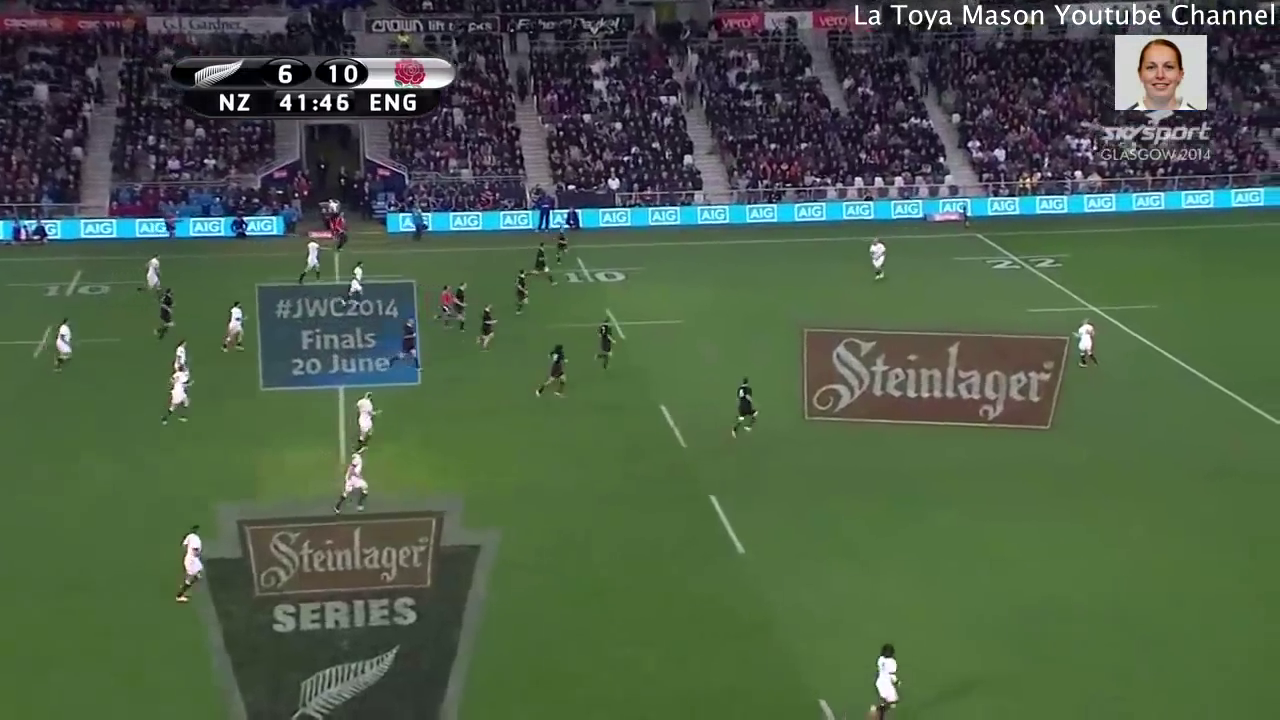10_metre: (1, 316, 119, 368), (9, 264, 150, 304), (550, 308, 687, 341), (542, 257, 645, 292)
player: (867, 640, 910, 720), (169, 523, 208, 610), (531, 340, 575, 402), (336, 449, 374, 512), (730, 372, 761, 444), (163, 362, 193, 428), (296, 231, 326, 293), (350, 391, 382, 449), (51, 306, 77, 377), (216, 300, 249, 355), (137, 246, 167, 306), (1069, 313, 1099, 372), (591, 312, 619, 375), (150, 286, 177, 348), (527, 240, 558, 288), (343, 256, 370, 308), (864, 233, 890, 285), (477, 302, 503, 352), (510, 269, 533, 317), (433, 283, 455, 328), (449, 283, 467, 333), (553, 230, 575, 269)
